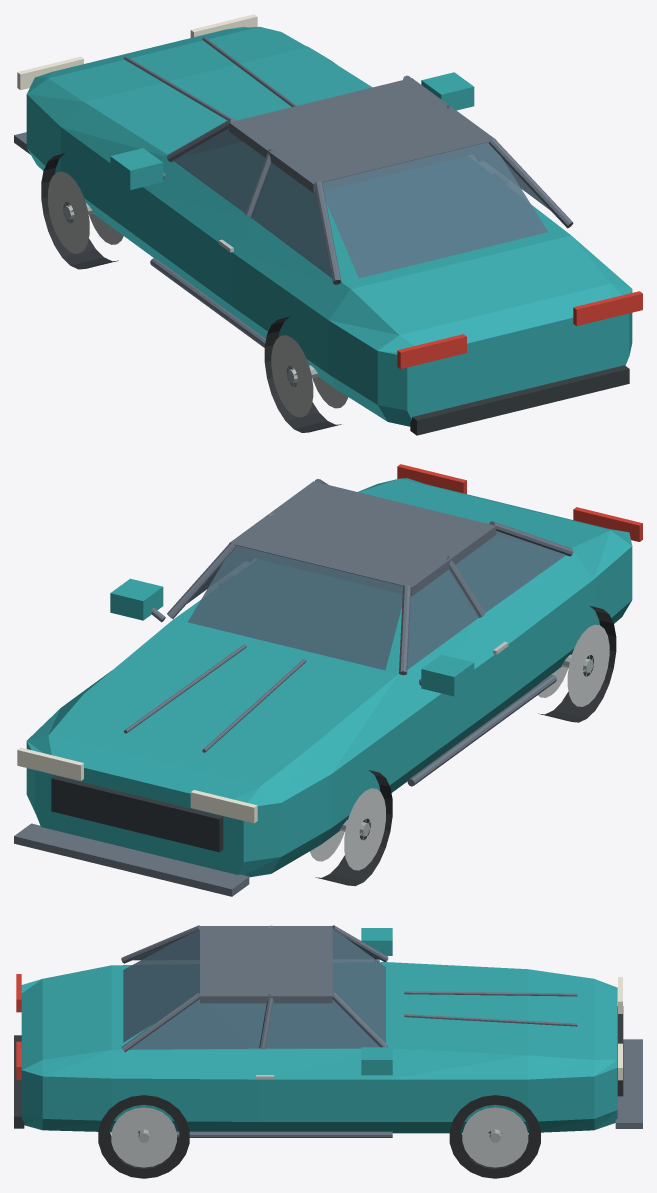
Rendered from vela_gt.glb.
3 views of the same model, one above another, from view 1: azimuth 30°, elevation 25°; view 2: azimuth 150°, elevation 25°; view 3: azimuth 270°, elevation 25° (orthographic). The views are drawn at different scales.
Visible parts, largest first — view 1: Body_Shell, Rear_Windshield, Roof, Rear_Quarter_Glass_-1, Diffuser, Door_Glass_-1, Rim_RL, Rim_FL, Mirror_Housing_-1, Tire_RL, Tire_FL, Taillight_-1 (+8 smaller); view 2: Body_Shell, Windshield, Roof, Grille, Splitter, Rear_Quarter_Glass_-1, Door_Glass_-1, Rim_FL, Rim_RL, Mirror_Housing_-1, Tire_RL, Mirror_Housing_1 (+10 smaller); view 3: Body_Shell, Roof, Rear_Windshield, Rear_Quarter_Glass_1, Door_Glass_1, Windshield, Rim_FR, Rim_RR, Tire_FR, Tire_RR, Splitter, Sill_1 (+11 smaller).
Part boxes in pixels (<box>): Body_Shell: <box>26,26,632,426</box>; Rear_Windshield: <box>322,142,548,278</box>; Roof: <box>229,78,495,192</box>; Rear_Quarter_Glass_-1: <box>250,162,331,277</box>; Diffuser: <box>410,365,629,435</box>; Door_Glass_-1: <box>173,128,265,212</box>; Rim_RL: <box>271,335,348,417</box>; Rim_FL: <box>48,171,123,253</box>; Mirror_Housing_-1: <box>110,148,163,189</box>; Tire_RL: <box>264,316,341,432</box>; Tire_FL: <box>41,153,118,269</box>; Taillight_-1: <box>397,334,466,368</box>; Body_Shell: <box>26,478,632,877</box>; Windshield: <box>188,545,402,670</box>; Roof: <box>229,481,496,596</box>; Grille: <box>51,775,223,852</box>; Splitter: <box>14,823,249,896</box>; Rear_Quarter_Glass_-1: <box>455,531,565,612</box>; Door_Glass_-1: <box>407,569,479,669</box>; Rim_FL: <box>309,788,385,870</box>; Rim_RL: <box>537,624,609,706</box>; Mirror_Housing_-1: <box>421,654,474,696</box>; Tire_RL: <box>538,605,616,722</box>; Mirror_Housing_1: <box>110,578,163,620</box>; Body_Shell: <box>21,962,617,1133</box>; Roof: <box>200,926,332,1003</box>; Rear_Windshield: <box>123,929,199,1042</box>; Rear_Quarter_Glass_1: <box>129,999,266,1049</box>; Door_Glass_1: <box>266,1000,379,1048</box>; Windshield: <box>332,929,385,1042</box>; Rim_FR: <box>462,1107,528,1167</box>; Rim_RR: <box>111,1107,176,1167</box>; Tire_FR: <box>449,1095,540,1178</box>; Tire_RR: <box>98,1095,189,1178</box>; Splitter: <box>615,1039,642,1128</box>; Sill_1: <box>176,1131,392,1137</box>.
Bounding box in the file's own units: 2.4 × 1.39 × 4.83.
